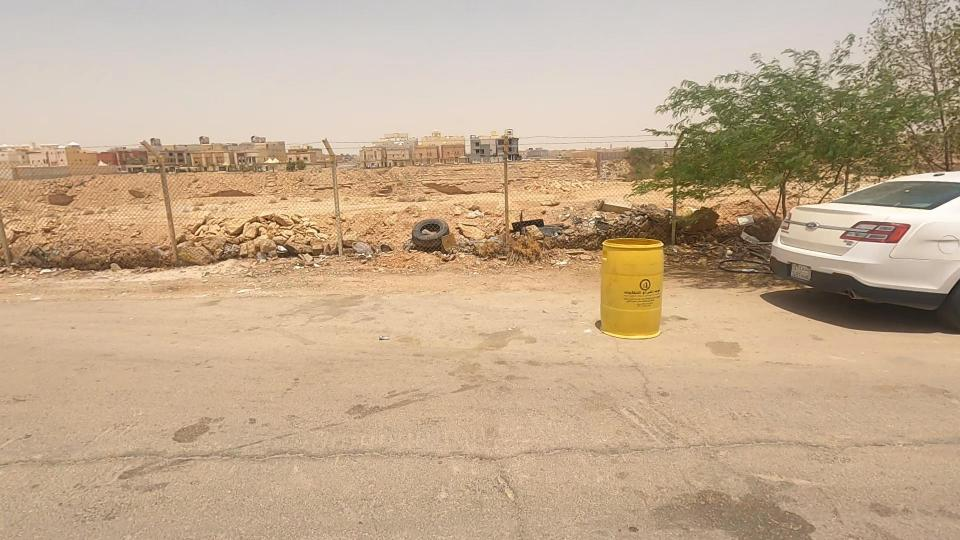GARBAGE: (442, 188, 622, 276), (355, 184, 502, 285), (682, 225, 791, 301), (685, 190, 800, 257), (551, 181, 629, 245), (193, 271, 292, 313), (318, 230, 402, 277), (253, 224, 310, 274), (20, 250, 76, 289)
